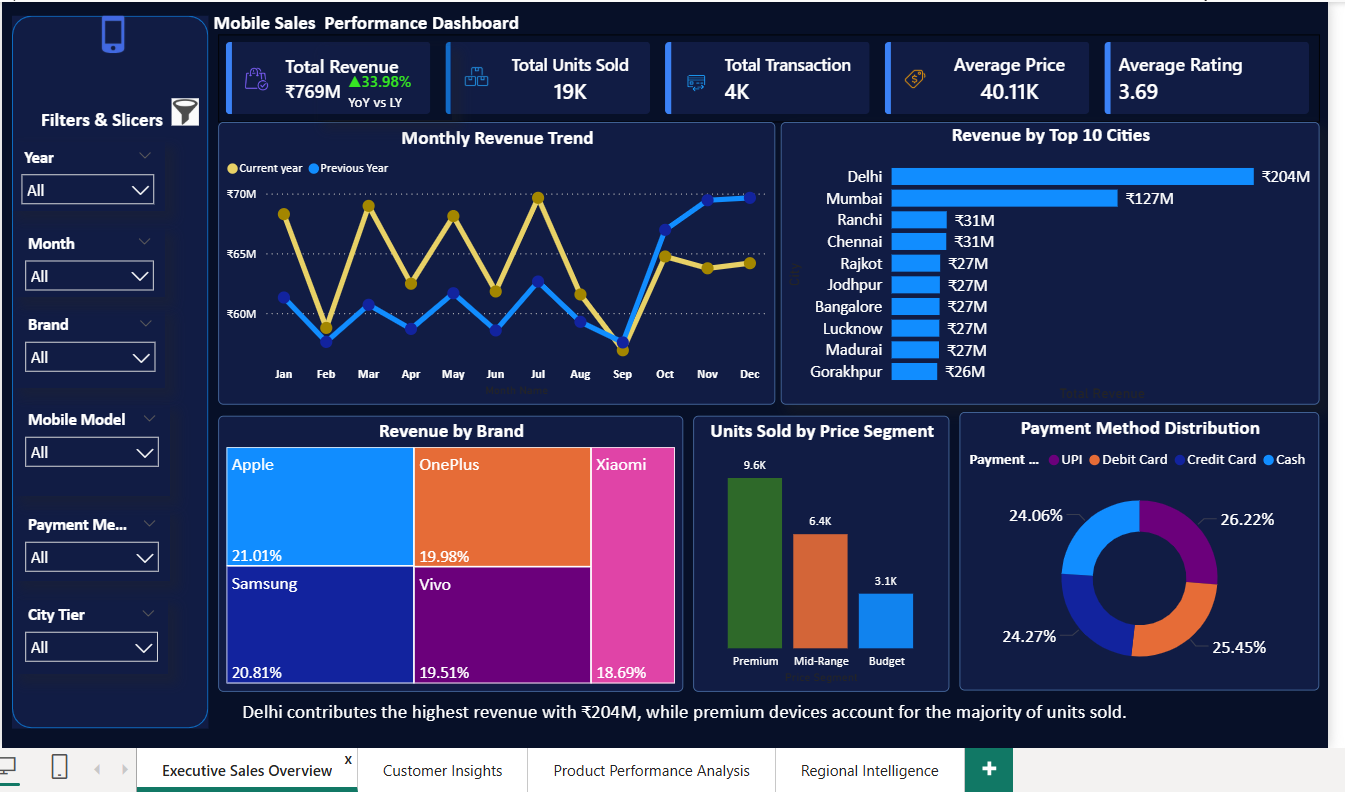

The page's visual inventory and layout, read from the dashboard file:
{"tool":"powerbi","page":{"name":"Executive Sales Overview","canvas":[1280,720],"ordinal":0},"visuals":[{"type":"cardVisual","fields":{"Data":["Sales_Data.Total Sales","Sales_Data.Total Quantity","Sales_Data.Total Transaction","Sales_Data.Average","Fact_Sales.Average Rating"]},"box":[208.7,20.5,1062.9,74.8],"z":0},{"type":"clusteredBarChart","title":"Revenue by Top 10 Cities","fields":{"Category":["Sales_Data.City"],"Y":["Sales_Data.Total Sales"]},"box":[751.2,116.2,520,272.5],"z":1000},{"type":"textbox","box":[198.8,0,972.5,41.2],"z":2000},{"type":"shape","box":[9.7,13.3,189.4,687.7],"z":3000},{"type":"image","box":[16.9,13.3,181,36.2],"z":4000},{"type":"slicer","fields":{"Values":["Dim_Date.Date.Variation.Date Hierarchy.Month"]},"box":[12.1,218.4,144.8,66.4],"z":5000},{"type":"slicer","fields":{"Values":["Sales_Data.Brand"]},"box":[12.1,296.8,146,76],"z":6000},{"type":"slicer","fields":{"Values":["Sales_Data.Mobile Model"]},"box":[12.1,388.5,149.6,88.1],"z":7000},{"type":"slicer","fields":{"Values":["Sales_Data.Payment Method"]},"box":[12.1,489.8,149.6,68.8],"z":8000},{"type":"textbox","box":[32.6,92.9,155.6,42.2],"z":9000},{"type":"image","box":[158,92.9,37.4,26.5],"z":10000},{"type":"lineChart","title":"Monthly Revenue Trend","fields":{"Y":["Fact_Sales.Total Revenue"],"Y2":["Fact_Sales.Same Period Last Year"],"Category":["Dim_Date. Month Name"]},"box":[208.8,116.2,537.5,272.5],"z":11000},{"type":"slicer","fields":{"Values":["Dim_Date.Date.Variation.Date Hierarchy.Year"]},"box":[8.8,135,148.8,66.2],"z":12000},{"type":"treemap","title":"Revenue by Brand","fields":{"Group":["Dim_Product.Brand"],"Values":["Fact_Sales.Total Revenue"]},"box":[208.7,399.3,535.7,265.4],"z":13000},{"type":"donutChart","title":"Payment Method Distribution","fields":{"Y":["Fact_Sales.Total Revenue"],"Category":["Dim_Payments.Payment Method"]},"box":[751.6,399.3,520,265.4],"z":14000},{"type":"slicer","fields":{"Values":["Dim_Customer.City Tier"]},"box":[12.1,576.7,148.4,72.4],"z":16000},{"type":"cardVisual","fields":{"Data":["Fact_Sales.YoY Indicator"]},"box":[311.3,31.4,156.8,74.8],"z":17000},{"type":"textbox","box":[226.2,665,1036.2,55],"z":18000}]}

Visuals, with their boxes on the page's 1280x720 design canvas (x1, y1, x2, y2). These are canvas units, not pixel positions in the 1345x792 screenshot, which may show the page scaled, cropped or inside an application window:
cardVisual - Sales_Data.Total Sales x Sales_Data.Total Quantity: region(209, 20, 1272, 95)
"Revenue by Top 10 Cities" clusteredBarChart: region(751, 116, 1271, 389)
textbox: region(199, 0, 1171, 41)
shape: region(10, 13, 199, 701)
image: region(17, 13, 198, 50)
slicer - Dim_Date.Date.Variation.Date Hierarchy.Month: region(12, 218, 157, 285)
slicer - Sales_Data.Brand: region(12, 297, 158, 373)
slicer - Sales_Data.Mobile Model: region(12, 388, 162, 477)
slicer - Sales_Data.Payment Method: region(12, 490, 162, 559)
textbox: region(33, 93, 188, 135)
image: region(158, 93, 195, 119)
"Monthly Revenue Trend" lineChart: region(209, 116, 746, 389)
slicer - Dim_Date.Date.Variation.Date Hierarchy.Year: region(9, 135, 158, 201)
"Revenue by Brand" treemap: region(209, 399, 744, 665)
"Payment Method Distribution" donutChart: region(752, 399, 1272, 665)
slicer - Dim_Customer.City Tier: region(12, 577, 160, 649)
cardVisual - Fact_Sales.YoY Indicator: region(311, 31, 468, 106)
textbox: region(226, 665, 1262, 720)
